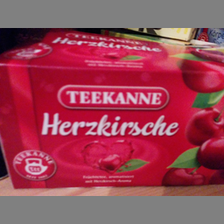tea: (1, 43, 224, 191)
